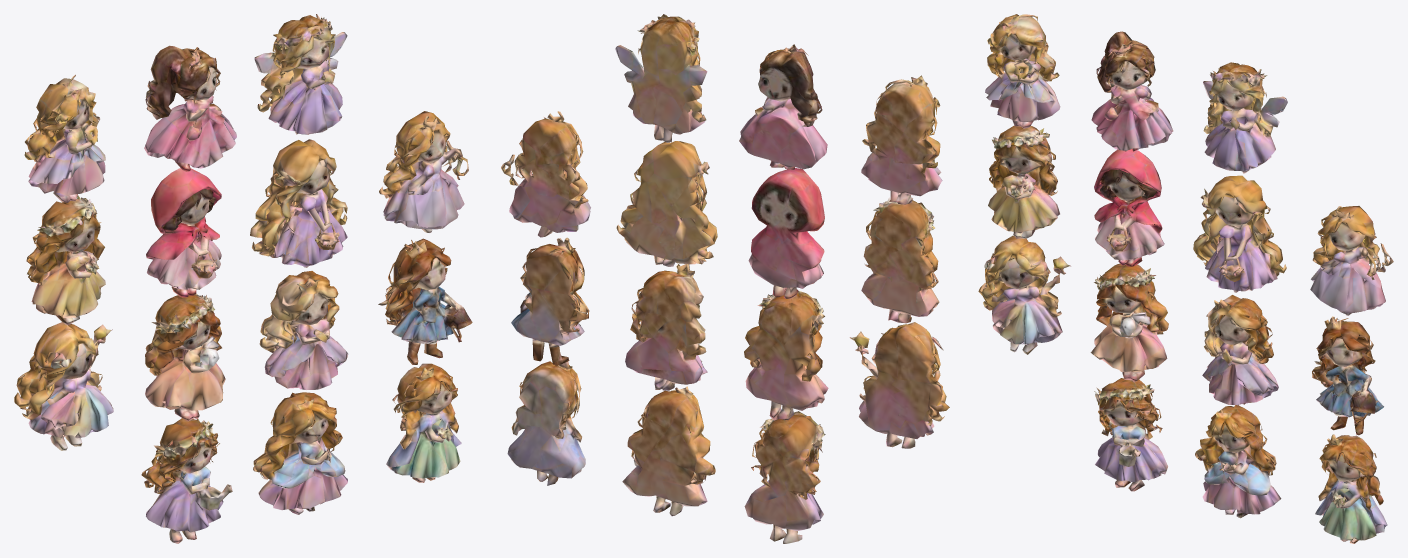
The picture shows the model from 3 angles, left to right: view 1: azimuth 30°, elevation 25°; view 2: azimuth 150°, elevation 25°; view 3: azimuth 330°, elevation 25°; orthographic projection. The views are drawn at different scales.
Visible parts, largest first — view 1: Mesh 13, Mesh 6, Mesh 9, Mesh 14, Mesh 15, Mesh 8, Mesh 16, Mesh 4, Mesh 3, Mesh 17, Mesh 10, Mesh 7 (+2 smaller); view 2: Mesh 13, Mesh 6, Mesh 14, Mesh 8, Mesh 15, Mesh 3, Mesh 16, Mesh 10, Mesh 4, Mesh 7, Mesh 17, Mesh 9 (+2 smaller); view 3: Mesh 13, Mesh 6, Mesh 14, Mesh 8, Mesh 15, Mesh 16, Mesh 4, Mesh 17, Mesh 9, Mesh 3, Mesh 10, Mesh 7 (+2 smaller).
Part boxes in pixels (left/top/right/bottom): Mesh 13: left=250, top=139, right=347, bottom=267; Mesh 6: left=14, top=322, right=113, bottom=450; Mesh 9: left=144, top=45, right=236, bottom=171; Mesh 14: left=253, top=392, right=347, bottom=514; Mesh 15: left=254, top=14, right=347, bottom=134; Mesh 8: left=145, top=293, right=225, bottom=421; Mesh 16: left=259, top=271, right=348, bottom=389; Mesh 4: left=26, top=195, right=105, bottom=325; Mesh 3: left=24, top=74, right=105, bottom=202; Mesh 17: left=379, top=111, right=468, bottom=232; Mesh 10: left=146, top=168, right=221, bottom=297; Mesh 7: left=141, top=418, right=232, bottom=543; Mesh 13: left=616, top=141, right=717, bottom=266; Mesh 6: left=849, top=322, right=949, bottom=448; Mesh 14: left=622, top=386, right=715, bottom=516; Mesh 8: left=744, top=291, right=828, bottom=420; Mesh 15: left=615, top=14, right=707, bottom=142; Mesh 3: left=861, top=75, right=942, bottom=204; Mesh 16: left=625, top=264, right=707, bottom=390; Mesh 10: left=748, top=168, right=824, bottom=298; Mesh 4: left=861, top=197, right=939, bottom=323; Mesh 7: left=744, top=411, right=825, bottom=543; Mesh 17: left=501, top=111, right=590, bottom=237; Mesh 9: left=739, top=44, right=827, bottom=169; Mesh 13: left=1193, top=175, right=1286, bottom=292; Mesh 6: left=978, top=235, right=1070, bottom=354; Mesh 14: left=1195, top=405, right=1281, bottom=518; Mesh 8: left=1090, top=263, right=1168, bottom=381; Mesh 15: left=1203, top=62, right=1287, bottom=173; Mesh 16: left=1202, top=295, right=1278, bottom=405; Mesh 4: left=988, top=125, right=1059, bottom=238; Mesh 17: left=1310, top=206, right=1393, bottom=315; Mesh 9: left=1091, top=31, right=1173, bottom=151; Mesh 3: left=985, top=14, right=1060, bottom=128; Mesh 10: left=1094, top=149, right=1164, bottom=266; Mesh 7: left=1094, top=378, right=1167, bottom=491.
Bounding box in the file's own units: 1.79 × 1.89 × 0.2138.
Materials: 14 (14 with a texture image).
